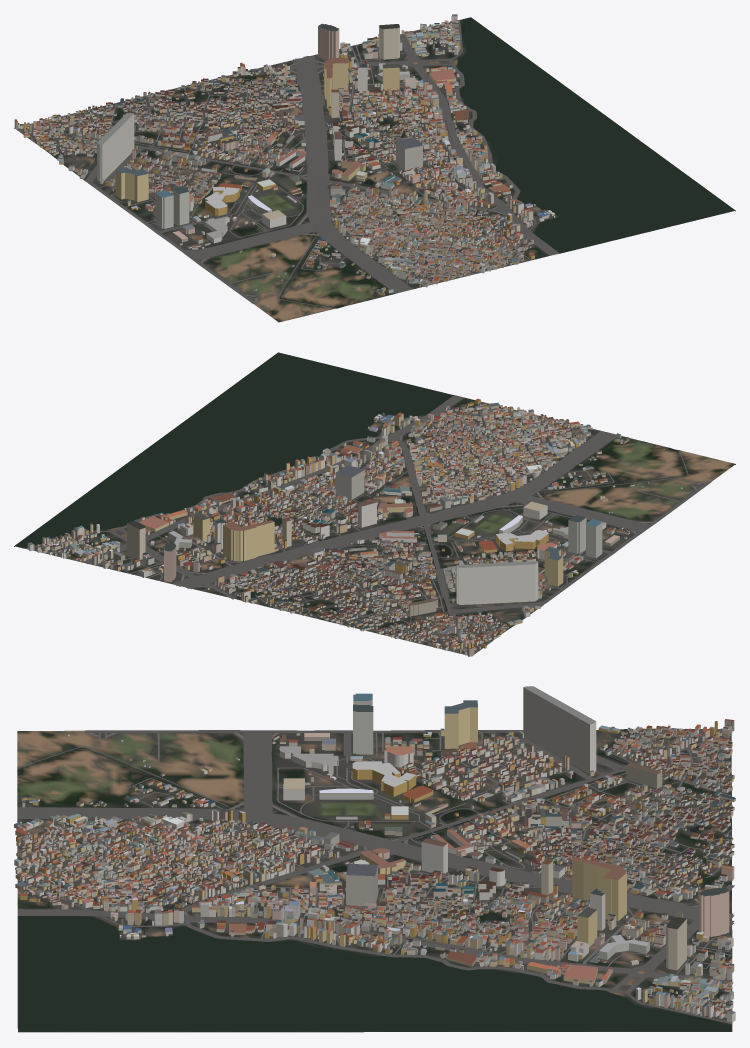
3 views of the same model, one above another, from view 1: azimuth 30°, elevation 25°; view 2: azimuth 150°, elevation 25°; view 3: azimuth 270°, elevation 25° (orthographic). The views are drawn at different scales.
Visible parts, largest first — view 1: buildings, ground, water, roads; view 2: buildings, ground, water, roads; view 3: buildings, ground, water, roads.
Part boxes in pixels (x1=…): buildings: x1=14, y1=14, x2=555, y2=306; ground: x1=14, y1=19, x2=735, y2=322; water: x1=88, y1=17, x2=734, y2=307; roads: x1=14, y1=20, x2=559, y2=308; buildings: x1=27, y1=398, x2=709, y2=656; ground: x1=14, y1=359, x2=735, y2=655; water: x1=15, y1=352, x2=685, y2=615; roads: x1=26, y1=395, x2=710, y2=656; buildings: x1=14, y1=686, x2=735, y2=1022; ground: x1=17, y1=728, x2=732, y2=1032; water: x1=17, y1=748, x2=731, y2=1031; roads: x1=17, y1=728, x2=734, y2=1023.
Size of the model in its own units: 1410 by 114 by 1416.
